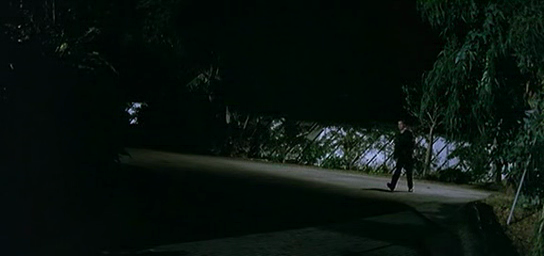els: (1, 1, 544, 256)
face: (397, 122, 403, 130)
person: (385, 119, 419, 192)
